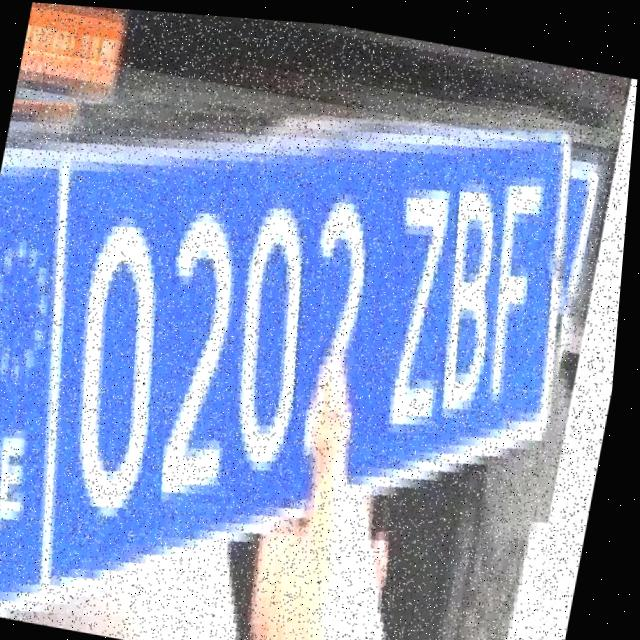LicensePlate: (0, 46, 625, 640)
